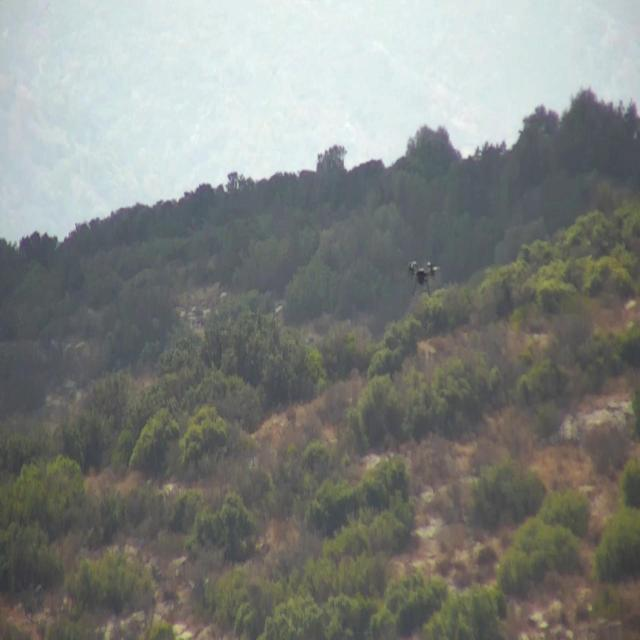drone: (401, 256, 441, 300)
